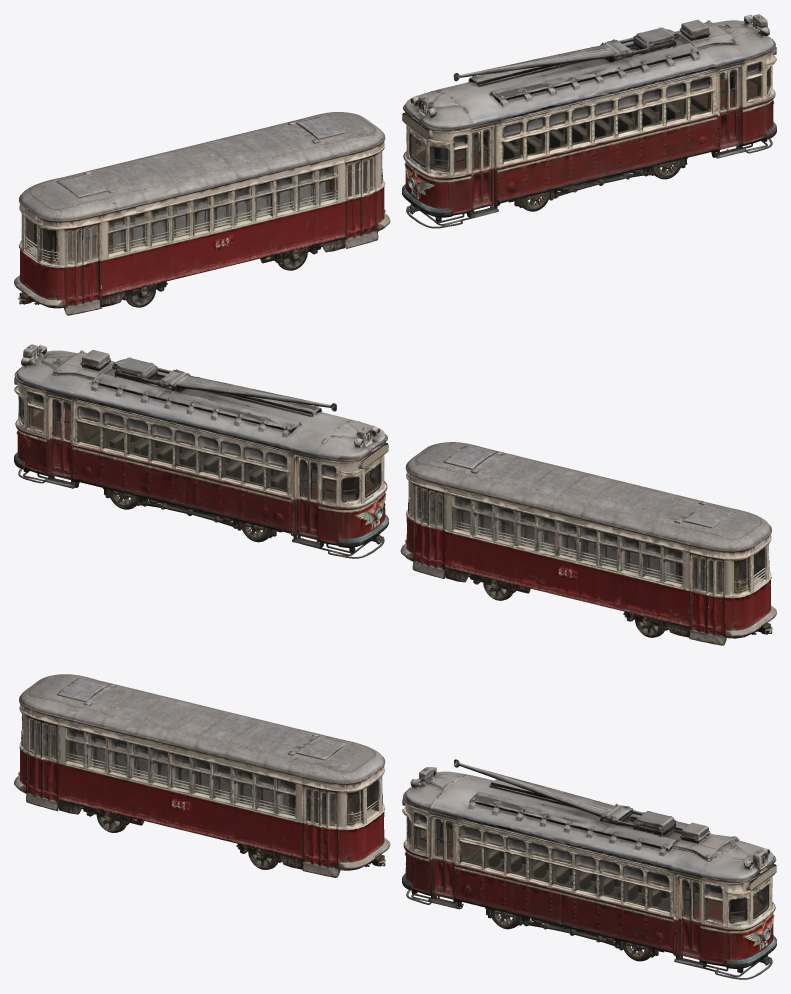
3 renders of one model, top to bottom at view 1: azimuth 30°, elevation 25°; view 2: azimuth 150°, elevation 25°; view 3: azimuth 330°, elevation 25°, orthographic.
Visible parts, largest first — view 1: Kh_AI_tripo, M_tirkama_AI_tripo; view 2: Kh_AI_tripo, M_tirkama_AI_tripo; view 3: Kh_AI_tripo, M_tirkama_AI_tripo.
Part boxes in pixels (x1,y1,x2,y2): Kh_AI_tripo: (402, 14, 776, 228); M_tirkama_AI_tripo: (14, 112, 390, 315); Kh_AI_tripo: (14, 344, 388, 558); M_tirkama_AI_tripo: (400, 442, 776, 645); Kh_AI_tripo: (402, 759, 776, 979); M_tirkama_AI_tripo: (14, 674, 390, 877).
Bounding box in the file's own units: 21.18 × 3.84 × 2.19.
Materials: 4 (4 with a texture image).
